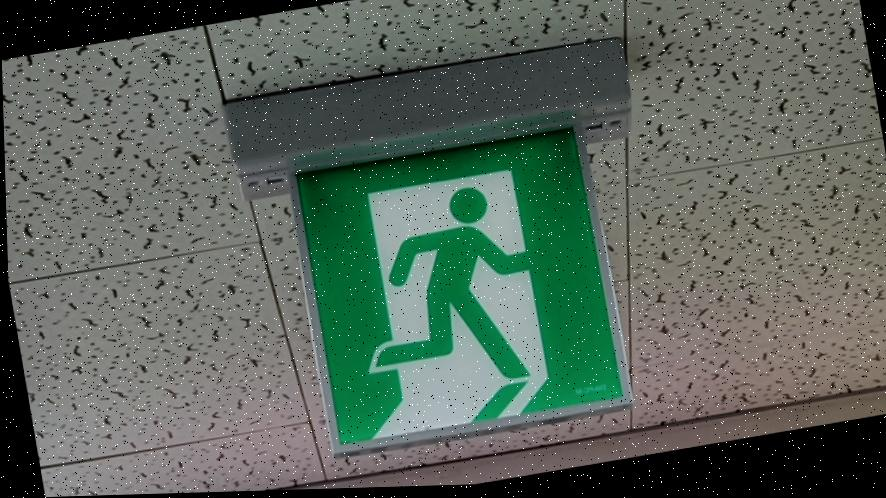emergency_exit: (291, 113, 634, 456)
